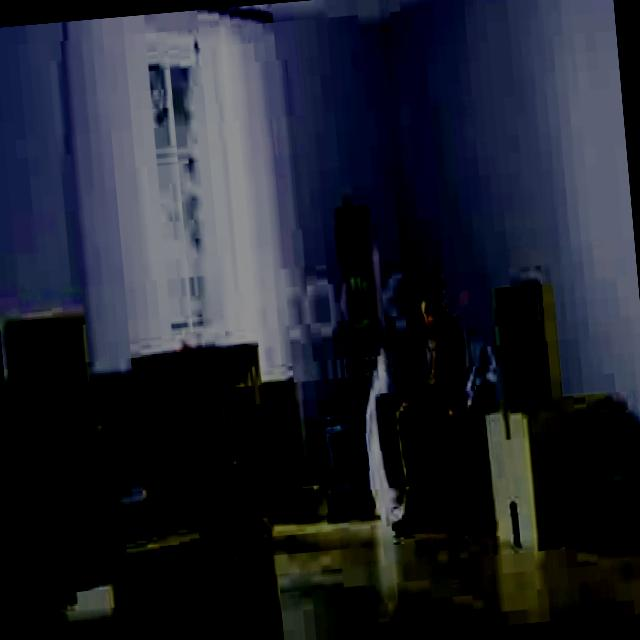Box: (483, 397, 619, 538), (185, 456, 282, 616), (128, 343, 230, 481), (5, 312, 96, 439), (110, 541, 221, 640), (486, 278, 568, 400), (11, 433, 120, 522), (218, 337, 268, 440)
